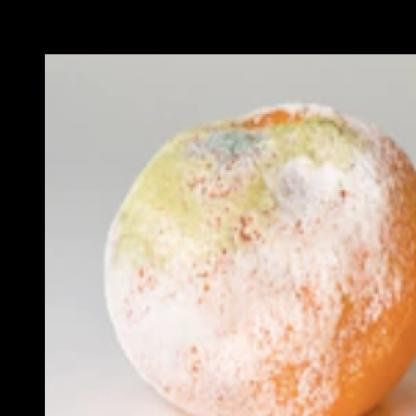rotten: (107, 102, 416, 416)
